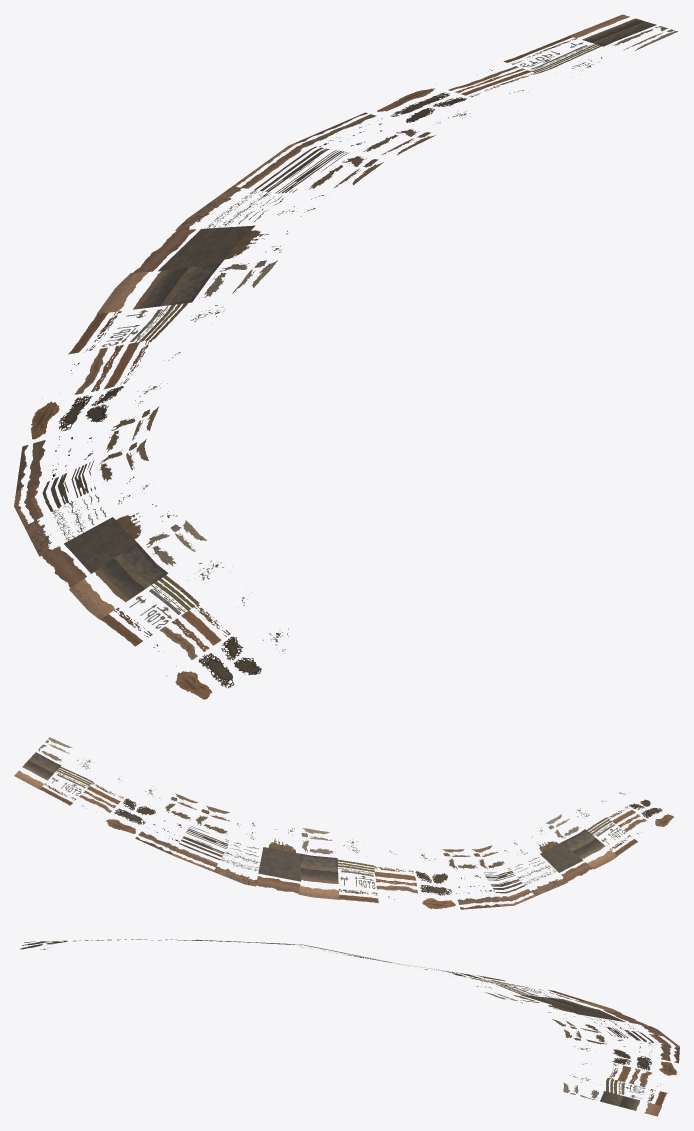
The model's file is Tide_GenerateSurfaceDecal_580910A6_0_FlowDecal_SmallMesh_Mesh_x9_y6_150_0_ATLAS.fbx.
3 views of the same model, one above another, from view 1: azimuth 30°, elevation 25°; view 2: azimuth 150°, elevation 25°; view 3: azimuth 270°, elevation 25° (orthographic). The views are drawn at different scales.
Parts seen in each view (by area): view 1: Tide_GenerateSurfaceDecal_580910A6_0_FlowDecal_SmallMesh_Mes; view 2: Tide_GenerateSurfaceDecal_580910A6_0_FlowDecal_SmallMesh_Mes; view 3: Tide_GenerateSurfaceDecal_580910A6_0_FlowDecal_SmallMesh_Mes.
Boxes of the visible parts, box(x1,y1,x2,y2) form: Tide_GenerateSurfaceDecal_580910A6_0_FlowDecal_SmallMesh_Mes: box(14, 14, 678, 699); Tide_GenerateSurfaceDecal_580910A6_0_FlowDecal_SmallMesh_Mes: box(14, 737, 673, 909); Tide_GenerateSurfaceDecal_580910A6_0_FlowDecal_SmallMesh_Mes: box(20, 939, 679, 1116).
Bounding box in the file's own units: 768 × 691 × 185.
